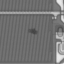dust: (27, 27, 38, 34)
